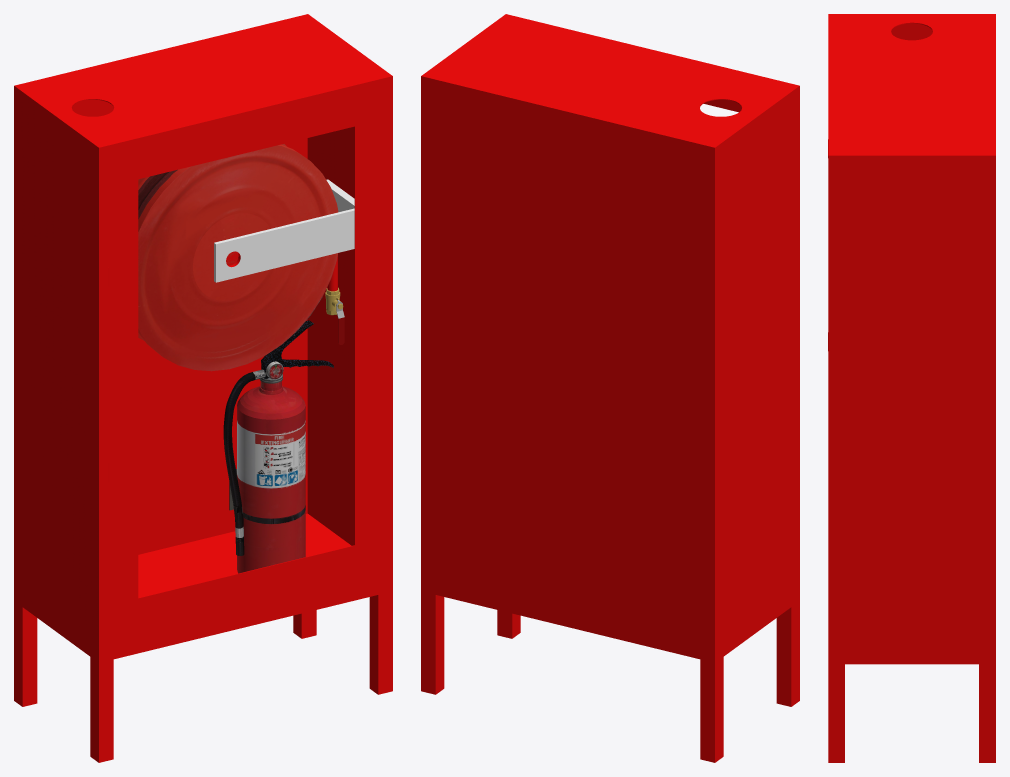
The picture shows the model from 3 angles, left to right: view 1: azimuth 30°, elevation 25°; view 2: azimuth 150°, elevation 25°; view 3: azimuth 270°, elevation 25°; orthographic projection.
Visible parts, largest first — view 1: FHC01 (×3), Component_3 (×2), group_8 (×2), Component_4, group_2, Component_2, group_3, group_10; view 2: FHC01, Component_4; view 3: FHC01 (×2), Component_4.
Part boxes in pixels (x1,y1,x2,y2): FHC01 (×3): [14, 14, 392, 647]; Component_3 (×2): [109, 88, 384, 636]; group_8 (×2): [138, 144, 338, 371]; Component_4: [14, 576, 392, 762]; group_2: [237, 385, 305, 573]; Component_2: [214, 179, 354, 282]; group_3: [223, 369, 265, 555]; group_10: [138, 169, 177, 219]; FHC01: [421, 14, 799, 647]; Component_4: [421, 576, 799, 762]; FHC01 (×2): [828, 14, 995, 648]; Component_4: [828, 649, 995, 762].
Bounding box in the file's own units: 31.5 × 15.76 × 62.99.
13 materials, 5 textured.
